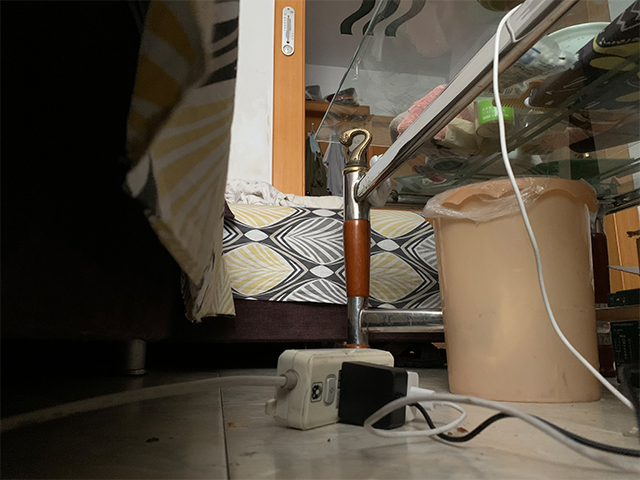sofa: (222, 185, 422, 348)
stool: (313, 1, 639, 349)
trashcan: (421, 174, 604, 404)
wire: (2, 345, 640, 457)
